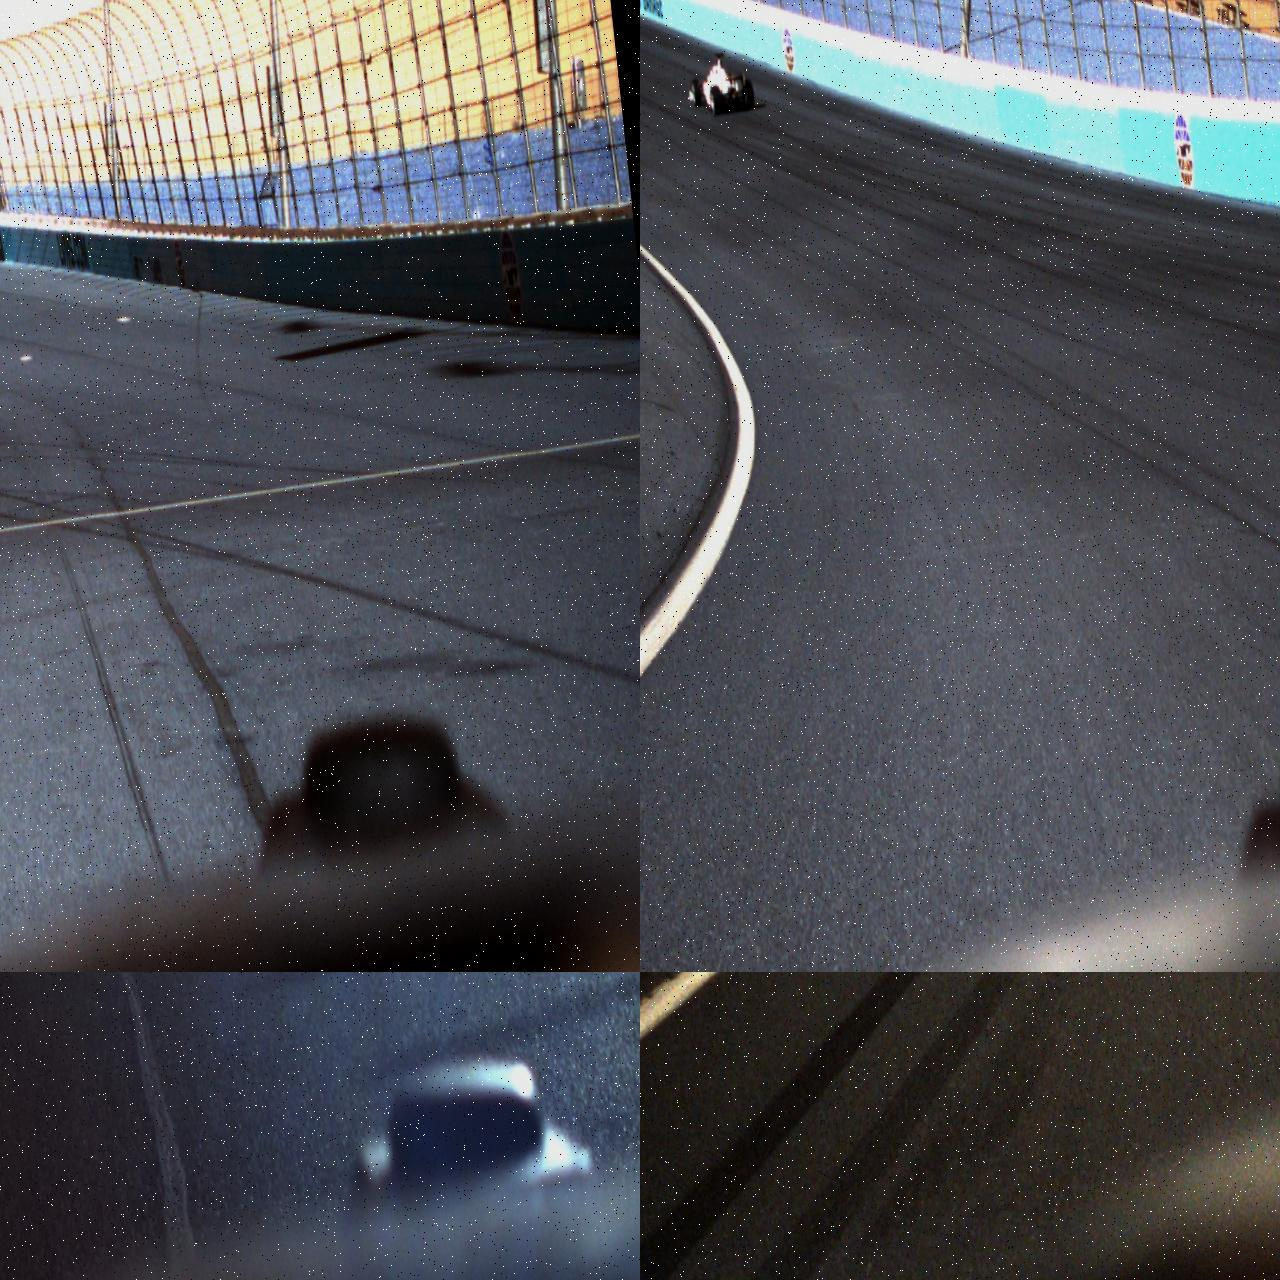AV: (684, 49, 756, 118)
Wheel: (708, 84, 724, 115), (743, 79, 755, 109), (690, 77, 701, 106)
